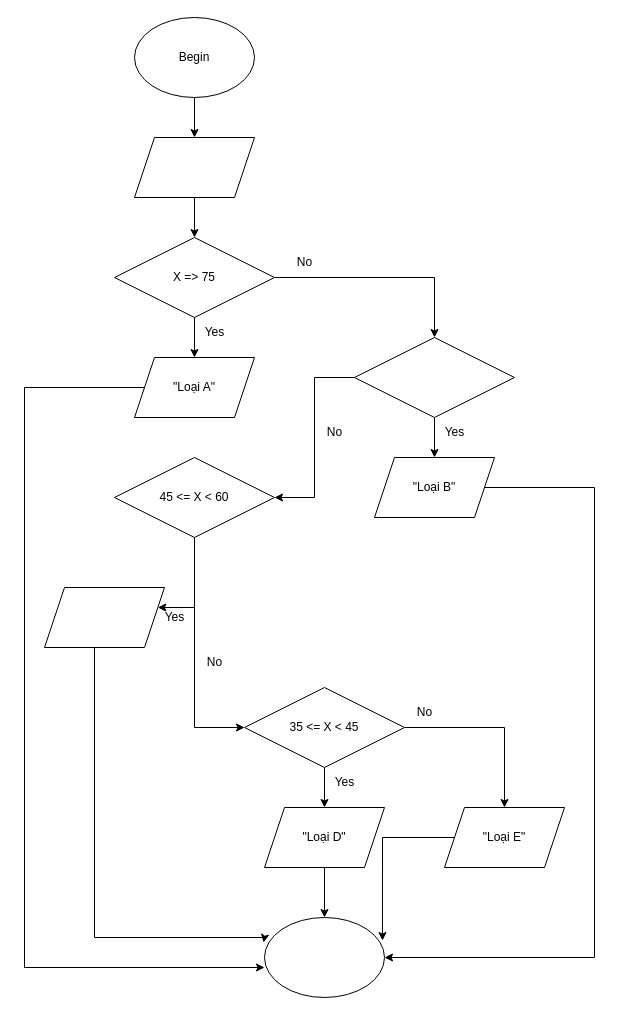
The diagram is 620 pixels wide and 1015 high, and some of its shapes have lost their labels. The shapes that lost their labels are listed below. From the top down, each one's centre as x and y in pixels, then its label:
the point at 194,167: Input X
the point at 434,377: 60 <= X < 75
the point at 104,617: "Loại C"
the point at 324,957: End
